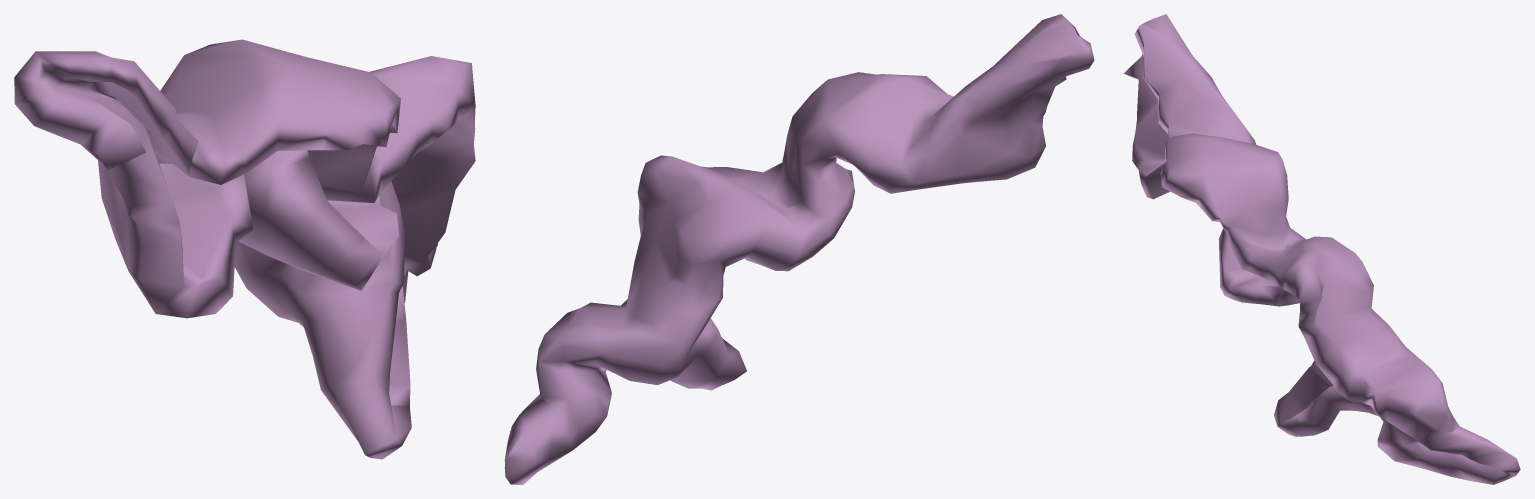
The picture shows the model from 3 angles, left to right: view 1: azimuth 30°, elevation 25°; view 2: azimuth 150°, elevation 25°; view 3: azimuth 270°, elevation 25°; orthographic projection. The views are drawn at different scales.
Parts seen in each view (by area): view 1: 左侧中央沟; view 2: 左侧中央沟; view 3: 左侧中央沟.
Part boxes in pixels (<box>): 左侧中央沟: <box>14,39,475,459</box>; 左侧中央沟: <box>504,14,1094,484</box>; 左侧中央沟: <box>1123,14,1520,484</box>.
Bounding box in the file's own units: 0.0756 × 0.0713 × 0.0783.
